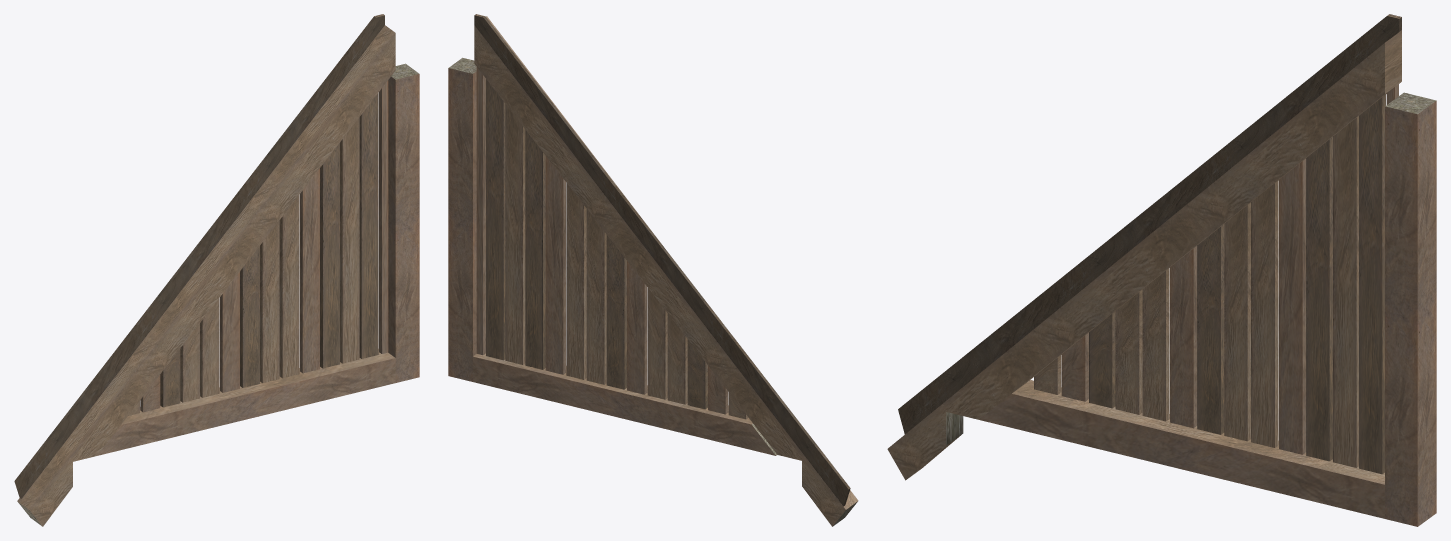
Rendered from RoofWallBMirror.fbx.
The picture shows the model from 3 angles, left to right: view 1: azimuth 30°, elevation 25°; view 2: azimuth 150°, elevation 25°; view 3: azimuth 330°, elevation 25°; orthographic projection. The views are drawn at different scales.
Visible parts, largest first — view 1: RoofWallBMirror; view 2: RoofWallBMirror; view 3: RoofWallBMirror.
Boxes of the visible parts, bbox=[...] form: RoofWallBMirror: bbox=[14, 14, 419, 526]; RoofWallBMirror: bbox=[448, 14, 858, 526]; RoofWallBMirror: bbox=[887, 14, 1436, 526].
Size of the model in its own units: 492 by 500 by 30.09.
